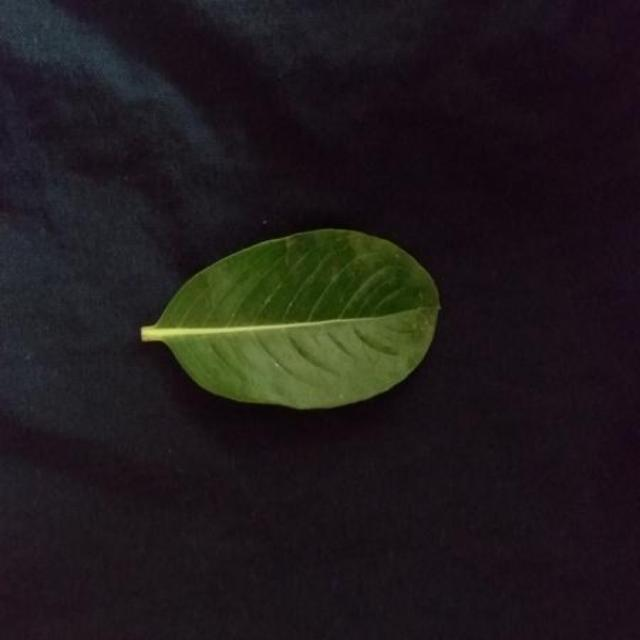catharanthus: (142, 229, 438, 408)
